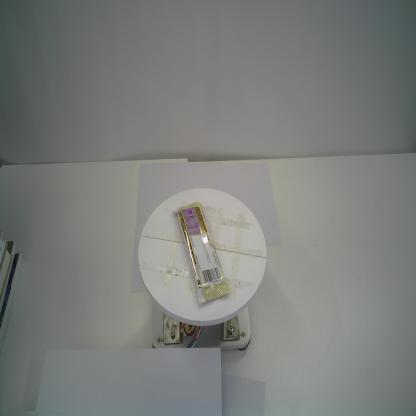Chocolate: (172, 201, 231, 305)
